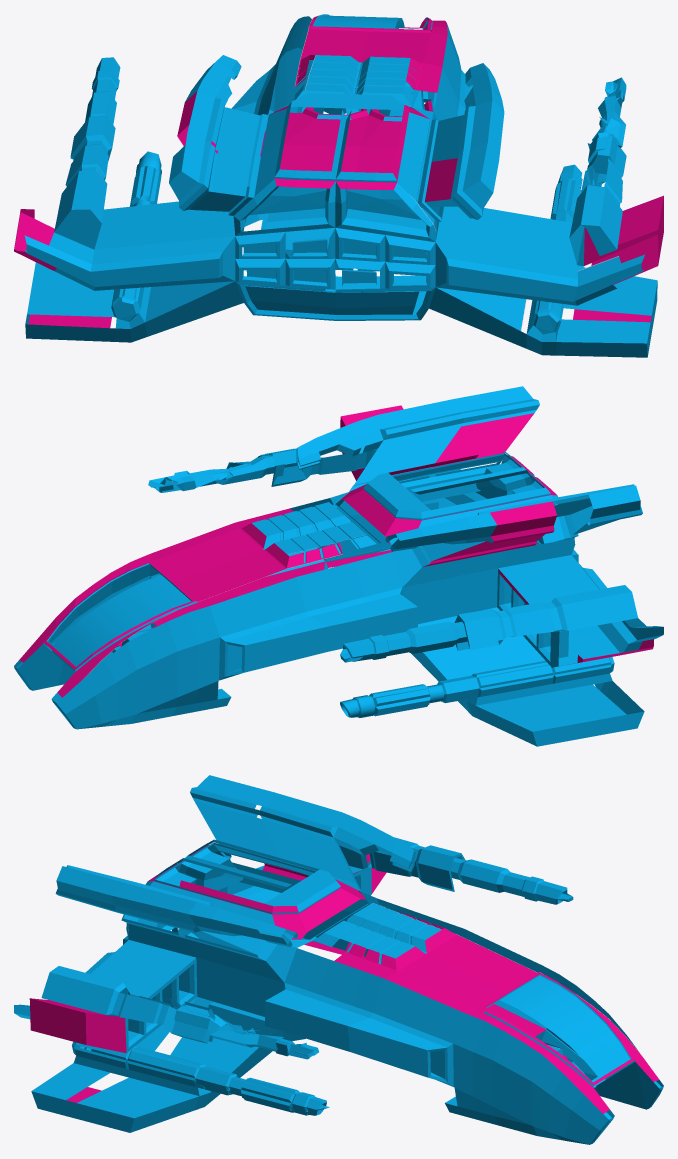
3 views of the same model, one above another, from view 1: azimuth 30°, elevation 25°; view 2: azimuth 150°, elevation 25°; view 3: azimuth 270°, elevation 25° (orthographic). The views are drawn at different scales.
Parts seen in each view (by area): view 1: ms_Object007.004; view 2: ms_Object007.004; view 3: ms_Object007.004.
Part boxes in pixels (left/top/right/bottom): ms_Object007.004: left=14, top=14, right=663, bottom=357; ms_Object007.004: left=14, top=386, right=663, bottom=746; ms_Object007.004: left=14, top=775, right=663, bottom=1144.
Bounding box in the file's own units: 746 × 247 × 809.
Materials: 2 (2 with a texture image).
